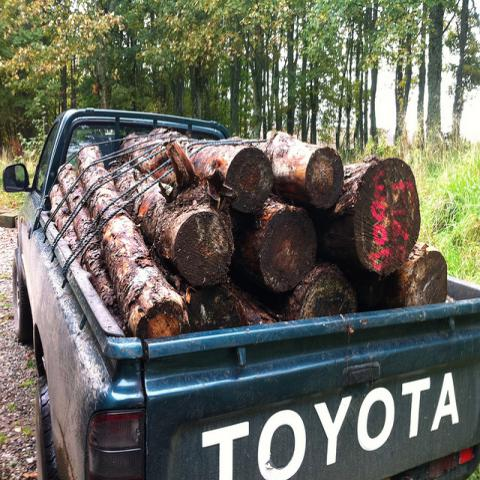truck: (2, 104, 480, 476)
